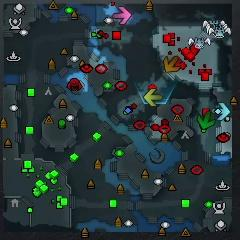x1: (113, 6, 131, 25)
x2: (145, 88, 163, 107)
x3: (213, 102, 230, 122)
x4: (198, 111, 215, 130)
x5: (163, 55, 179, 74)
